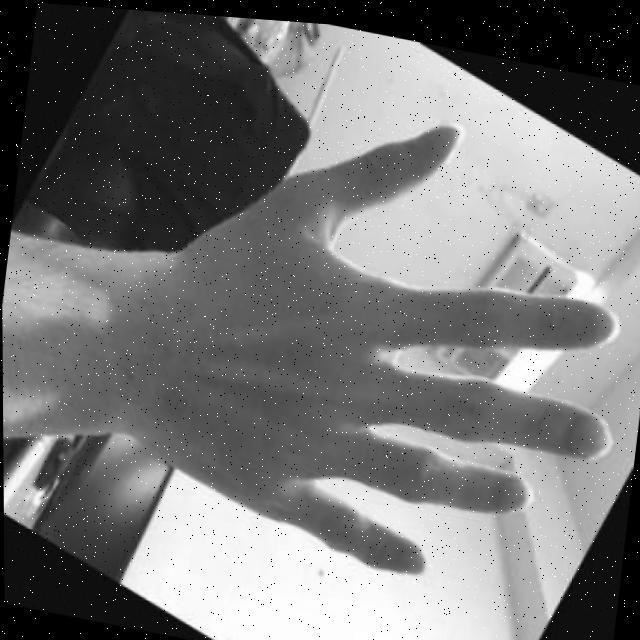no-gloves: (118, 58, 640, 604)
